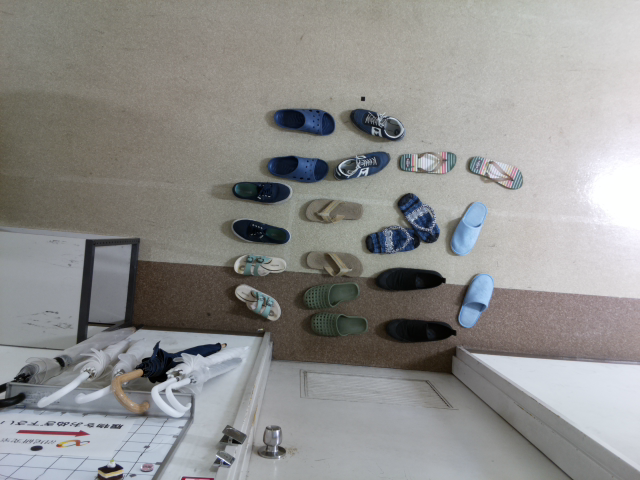Copy of Copy of Copy of Copy of Copy of Copy of Copy of Copy of Copy of Copy of: (377, 310, 457, 349), (464, 152, 527, 194), (395, 189, 442, 244), (375, 262, 449, 296), (448, 197, 488, 259), (346, 104, 409, 143), (456, 269, 495, 332), (395, 144, 460, 178), (330, 148, 394, 182), (362, 223, 421, 256)
Copy of Copy of Copy of Copy of Copy of Copy of Copy of Copy of Copy of shoe: (302, 194, 366, 228)
Copy of Copy of Copy of Copy of Copy of Copy of Copy of Copy of shoe: (302, 247, 366, 280)
Copy of Copy of Copy of Copy of Copy of Copy of Copy of shoe: (299, 278, 364, 312)
Copy of Copy of Copy of Copy of Copy of Copy of shoe: (306, 307, 369, 343)
Copy of Copy of Copy of Copy of Copy of shoe: (227, 282, 286, 323)
Copy of Copy of Copy of Copy of shoe: (227, 251, 290, 282)
Copy of Copy of Copy of shoe: (223, 215, 294, 250)
Copy of Copy of shoe: (226, 174, 297, 209)
Copy of shoe: (261, 152, 332, 187)
shoe: (268, 104, 339, 139)
